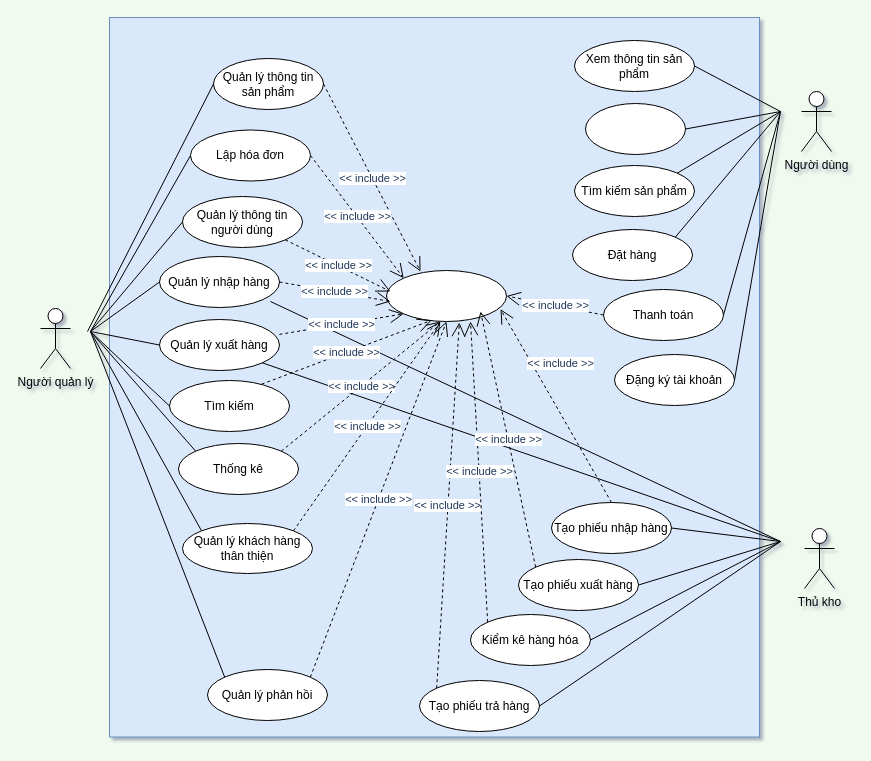
Image size: 871x761. Some labels were removed from this diagram. The shapes that lost their labels are listed below. From the top down, each one's centre as x and y in pixels, then its label:
pixel 635 128: Xem thông tin cửa hàng
pixel 446 296: Đăng nhập
